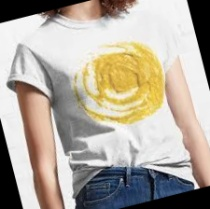mustard: (93, 72, 170, 127), (97, 50, 153, 97), (73, 62, 110, 126), (110, 35, 158, 82)
